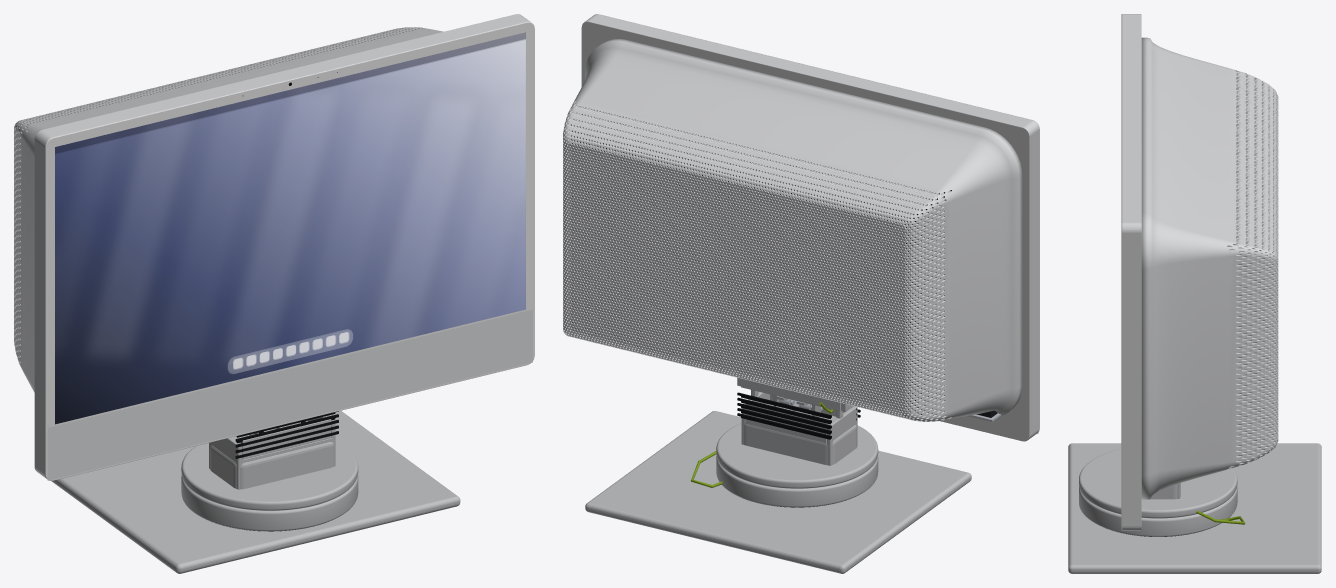
File: imac_pc.v017__2026-11-07_52de170.glb
The picture shows the model from 3 angles, left to right: view 1: azimuth 30°, elevation 25°; view 2: azimuth 150°, elevation 25°; view 3: azimuth 270°, elevation 25°; orthographic projection. The views are drawn at different scales.
Parts seen in each view (by area): view 1: display, chin_print, stand_foot, front_glass, cover_back, slab, stand_neck_collar, stand_skirt, stand_neck_shroud, stand_neck_tab; view 2: cover_back, stand_foot, slab, cover_filter, stand_neck_collar, stand_skirt, stand_neck_shroud, hinge_cover, front_glass, stand_neck_tie, stand_arm0; view 3: cover_back, stand_foot, slab, stand_neck_collar, stand_skirt, front_glass.
Boxes of the visible parts, bbox=[...] form: display: bbox=[55, 32, 525, 424]; chin_print: bbox=[47, 309, 532, 480]; stand_foot: bbox=[51, 410, 460, 573]; front_glass: bbox=[45, 22, 534, 480]; cover_back: bbox=[14, 27, 443, 392]; slab: bbox=[34, 14, 530, 478]; stand_neck_collar: bbox=[181, 442, 358, 510]; stand_skirt: bbox=[181, 475, 358, 531]; stand_neck_shroud: bbox=[210, 421, 334, 489]; stand_neck_tab: bbox=[241, 419, 331, 459]; cover_back: bbox=[563, 39, 1022, 421]; stand_foot: bbox=[585, 411, 971, 573]; slab: bbox=[581, 14, 1039, 441]; cover_filter: bbox=[569, 106, 951, 414]; stand_neck_collar: bbox=[716, 423, 878, 488]; stand_skirt: bbox=[716, 456, 878, 507]; stand_neck_shroud: bbox=[744, 403, 856, 464]; hinge_cover: bbox=[741, 378, 840, 411]; front_glass: bbox=[595, 14, 1039, 432]; stand_neck_tie: bbox=[745, 404, 827, 443]; stand_arm0: bbox=[827, 406, 857, 465]; cover_back: bbox=[1141, 37, 1278, 499]; stand_foot: bbox=[1068, 443, 1321, 573]; slab: bbox=[1122, 14, 1141, 530]; stand_neck_collar: bbox=[1079, 449, 1237, 518]; stand_skirt: bbox=[1079, 487, 1237, 536]; front_glass: bbox=[1121, 14, 1122, 530].
Bounding box in the file's own units: 620 × 535 × 310.
Materials: 65 (4 with a texture image).
